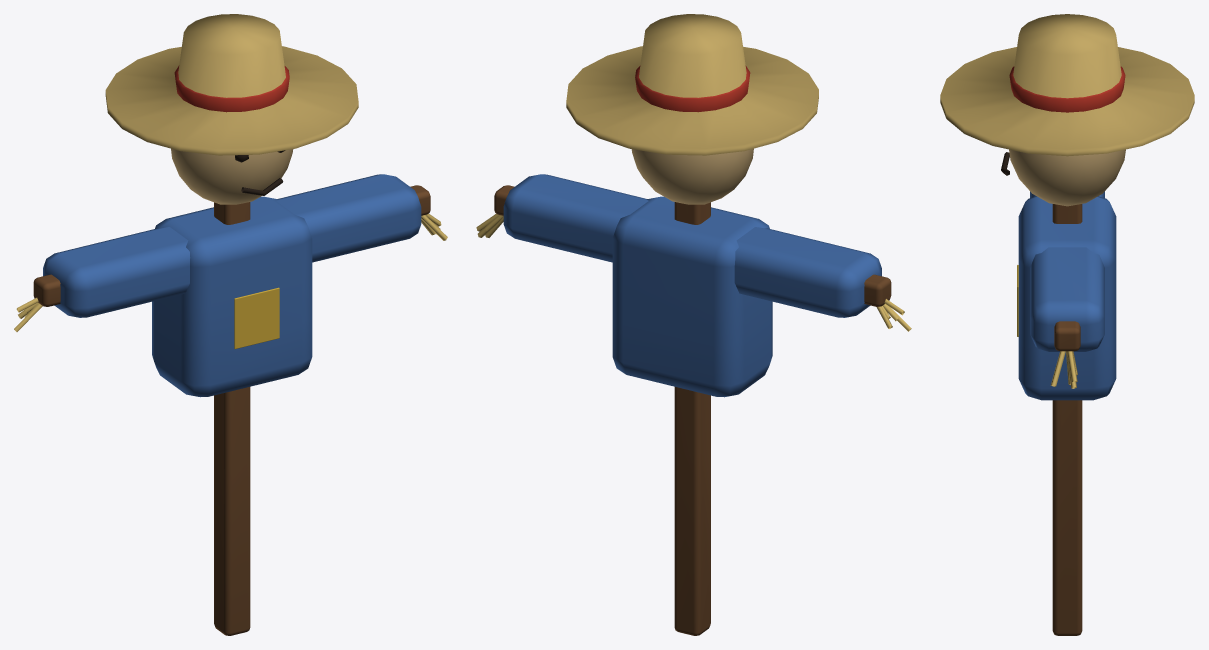
The model's file is scarecrow.glb.
The picture shows the model from 3 angles, left to right: view 1: azimuth 30°, elevation 25°; view 2: azimuth 150°, elevation 25°; view 3: azimuth 270°, elevation 25°; orthographic projection.
Visible parts, largest first — view 1: scarecrow_main; view 2: scarecrow_main; view 3: scarecrow_main.
Part boxes in pixels (<box>): scarecrow_main: <box>14,14,447,635</box>; scarecrow_main: <box>476,14,911,635</box>; scarecrow_main: <box>940,14,1194,635</box>.
Bounding box in the file's own units: 1.33 × 1.78 × 0.68.
